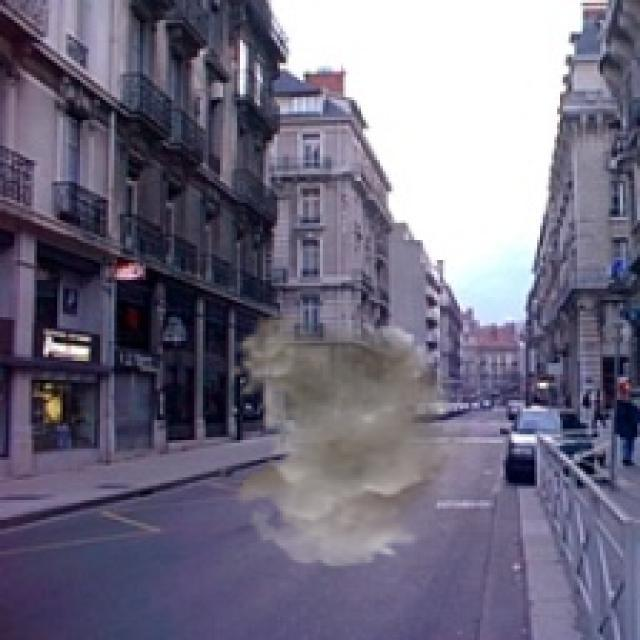Smoke: (228, 312, 486, 568)
